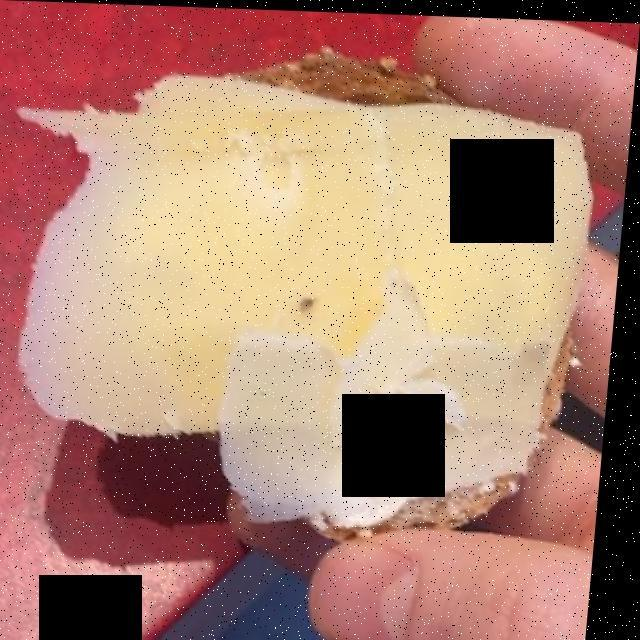cheese: (20, 74, 595, 516)
